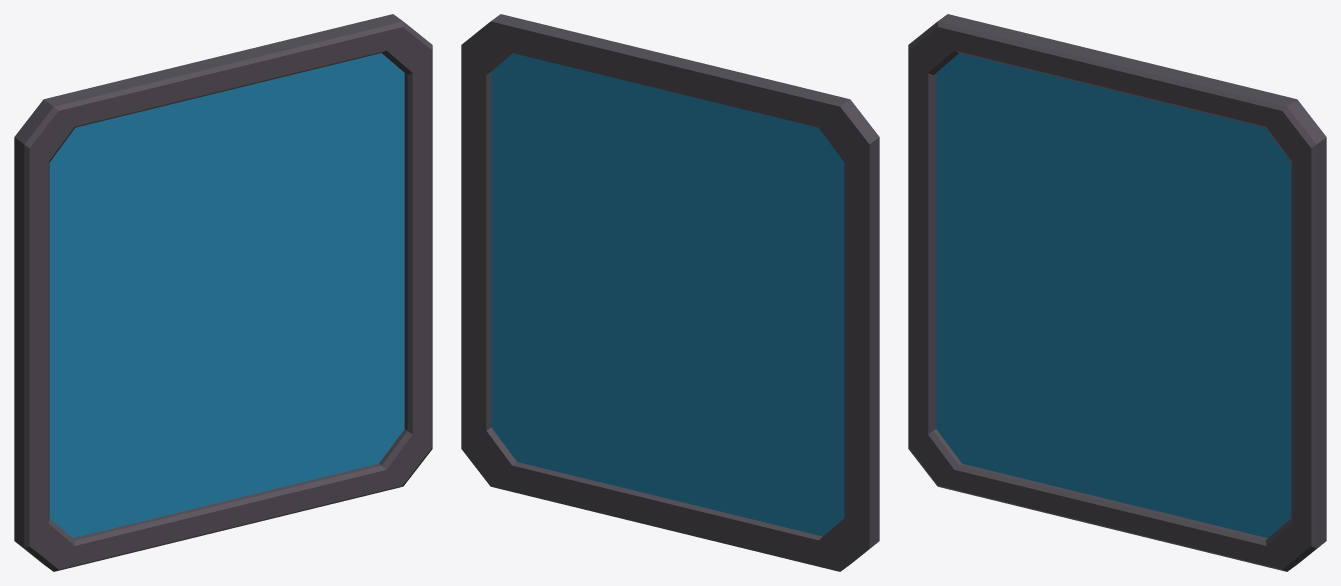
File: SM_Props_Laboratory_04_Door_01.fbx
3 views of the same model, side by side, from view 1: azimuth 30°, elevation 25°; view 2: azimuth 150°, elevation 25°; view 3: azimuth 330°, elevation 25° (orthographic).
Visible parts, largest first — view 1: SM_Props_Laboratory_04_Door_01; view 2: SM_Props_Laboratory_04_Door_01; view 3: SM_Props_Laboratory_04_Door_01.
Part boxes in pixels (x1,y1,x2,y2): SM_Props_Laboratory_04_Door_01: [14, 14, 432, 571]; SM_Props_Laboratory_04_Door_01: [461, 14, 879, 571]; SM_Props_Laboratory_04_Door_01: [908, 14, 1326, 571].
Bounding box in the file's own units: 0.5272 × 0.5742 × 0.0276.
